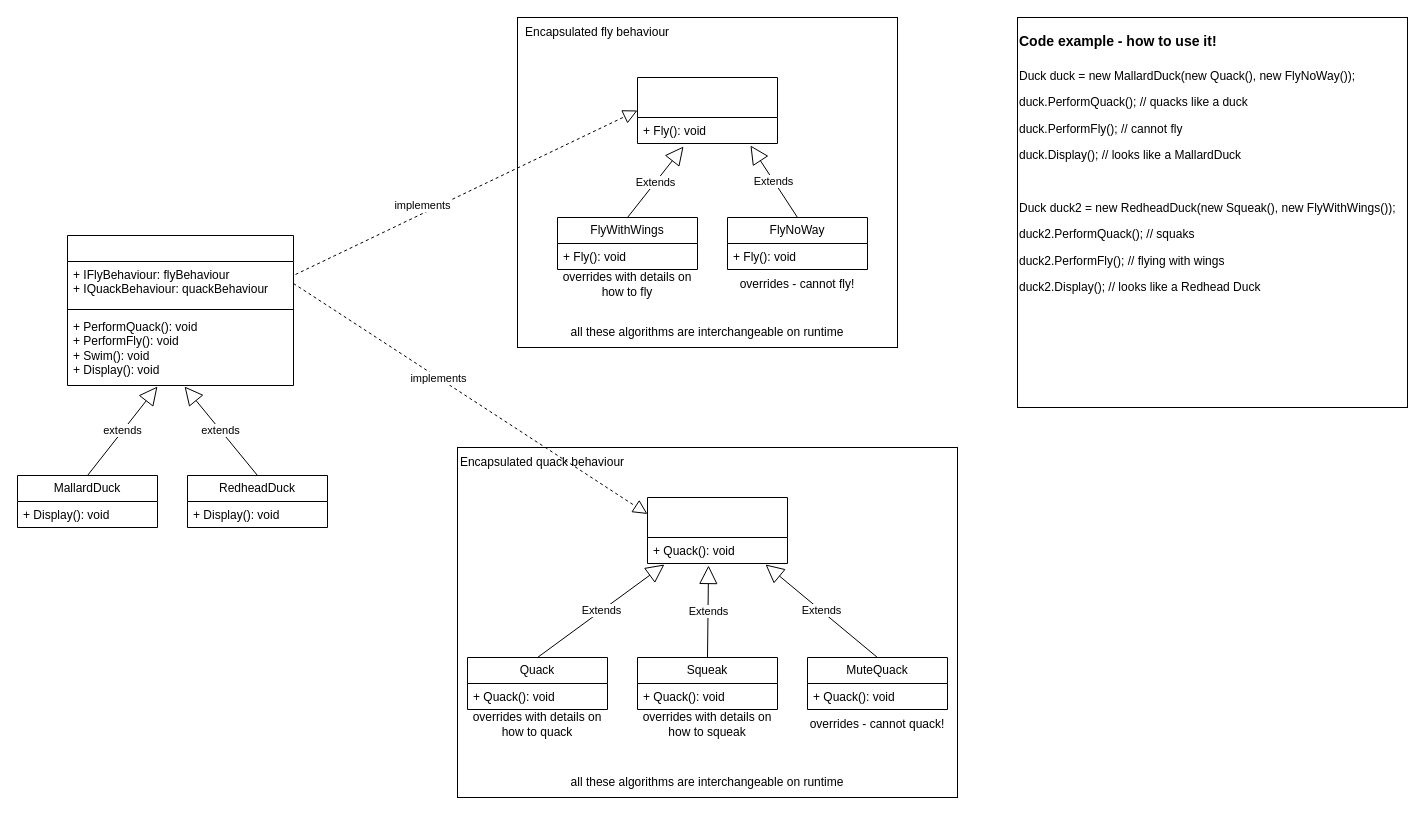
Image size: 1425x815. Some labels were removed from this diagram. The shapes that lost their labels are listed below. From the top down, each one's box as (x1, y1, x2, y2) in pixels, then its label:
(636, 76, 778, 144): <<interface>> IFlyBehaviour
(66, 234, 294, 386): Duck
(646, 496, 788, 564): <<interface>> IQuackBehaviour
